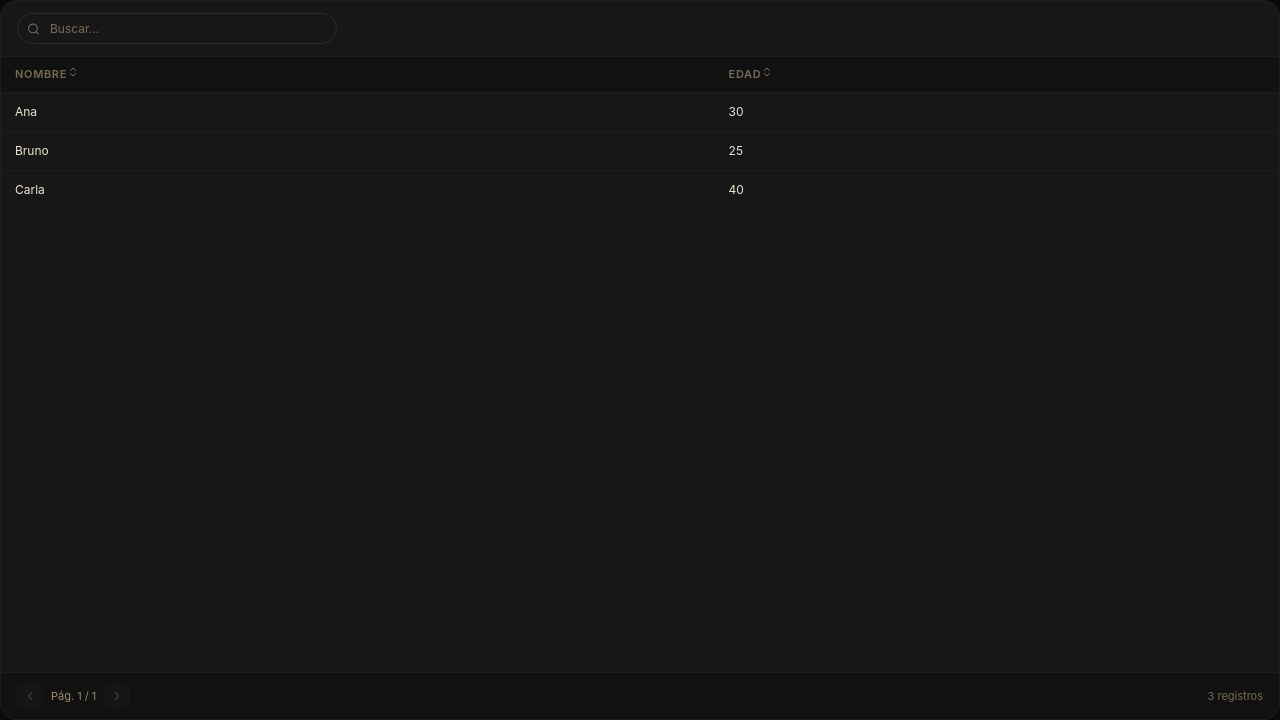
Test: DataTable › filters when typing in the search box (searchKeys)
This screenshot has width=1280, height=720.
Step 1. Type "ana" into the search field → coordinates (177, 28), box [17, 13, 337, 44]
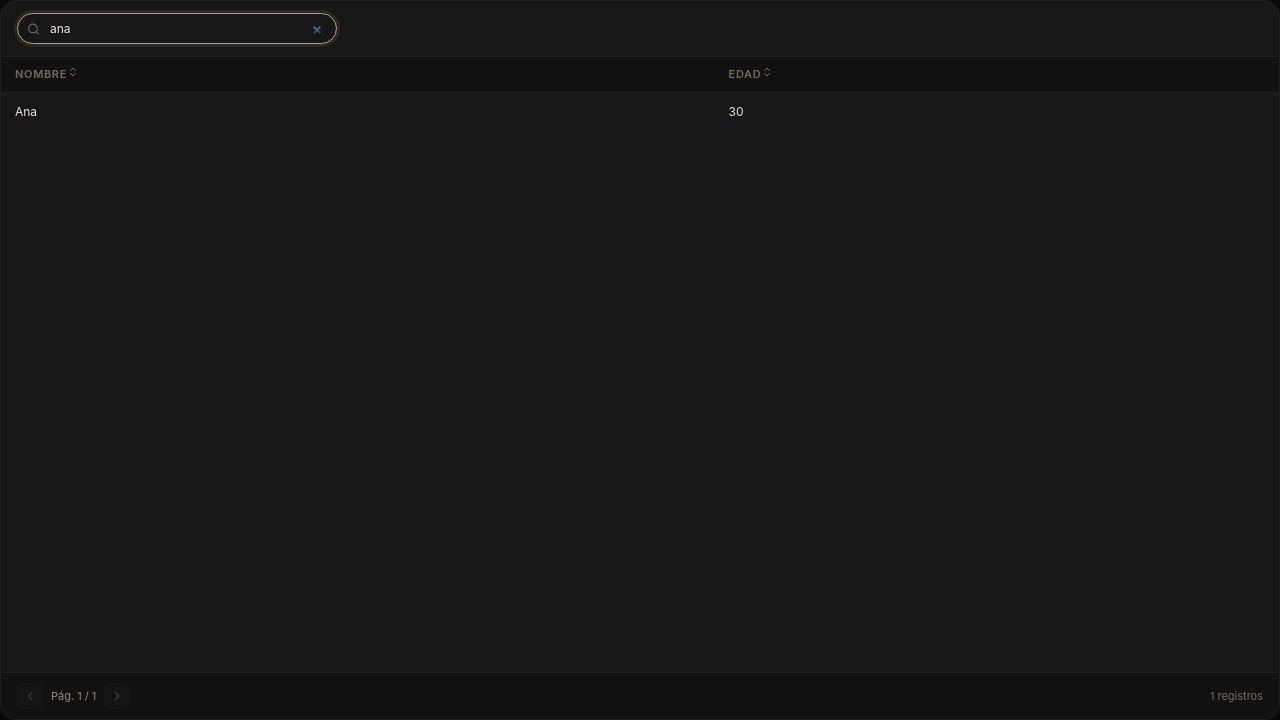
Expected: the text "Ana" is shown, [1, 92, 715, 130]
Expected: the text "Bruno" is gone
